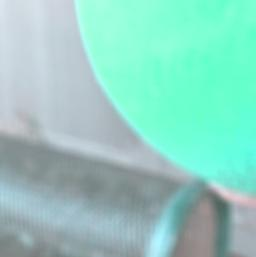algae: (72, 0, 256, 197)
